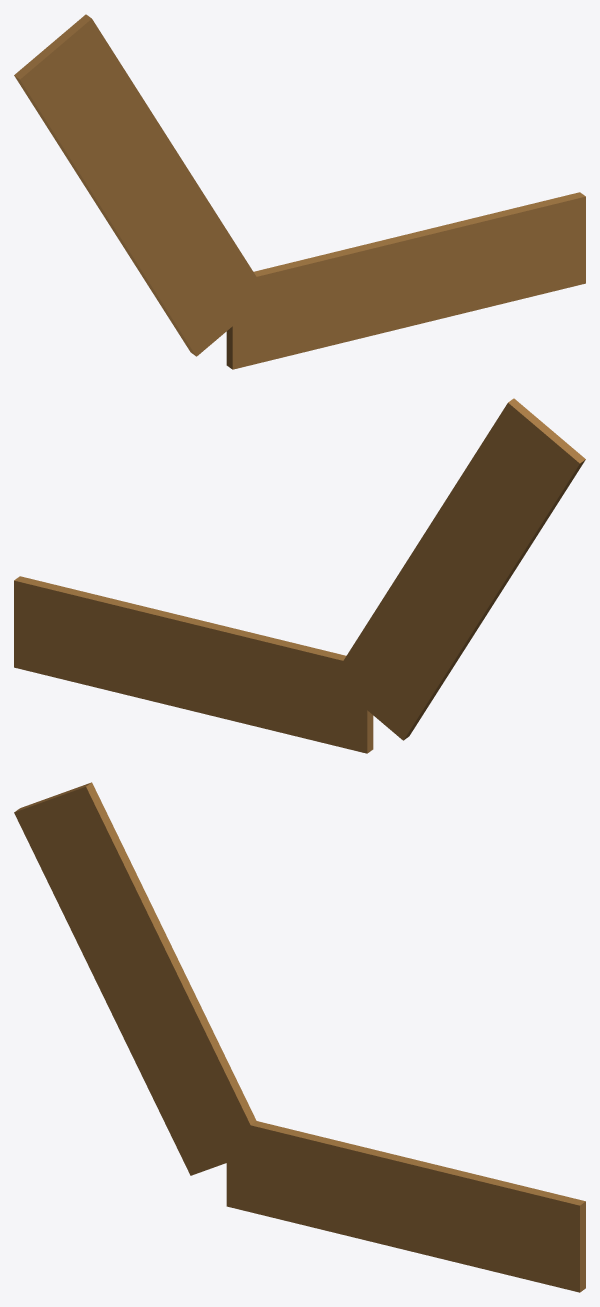
File: street_curve_large.glb
3 views of the same model, one above another, from view 1: azimuth 30°, elevation 25°; view 2: azimuth 150°, elevation 25°; view 3: azimuth 330°, elevation 25° (orthographic).
Visible parts, largest first — view 1: arm1, arm2; view 2: arm1, arm2; view 3: arm1, arm2.
Part boxes in pixels (x1=…): arm1: x1=226, y1=192, x2=585, y2=369; arm2: x1=14, y1=14, x2=256, y2=356; arm1: x1=14, y1=576, x2=373, y2=753; arm2: x1=343, y1=398, x2=585, y2=740; arm1: x1=226, y1=1119, x2=585, y2=1292; arm2: x1=14, y1=782, x2=258, y2=1175.
Bounding box in the file's own units: 2.72 × 1.77 × 0.05.
